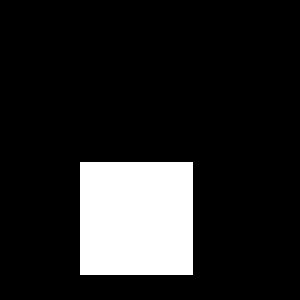circle: (80, 162, 193, 275)
